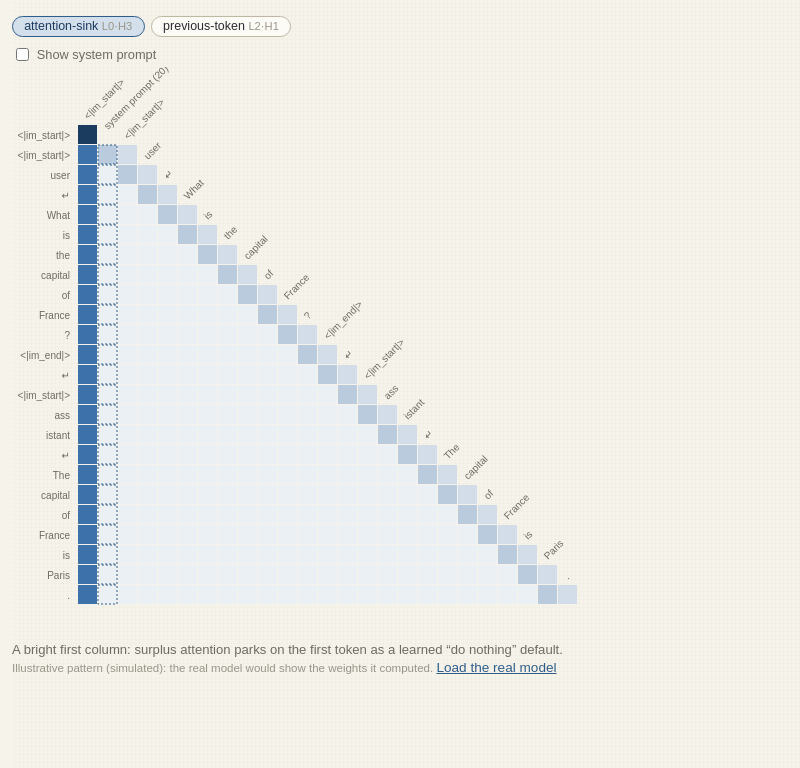
Test: a chat run folds the system prompt into one column; the toggle opens the full matrix
Click the checkbox with test id "attn-show-system". click: {"x": 22, "y": 54}
box: left=16, top=48, right=29, bottom=61
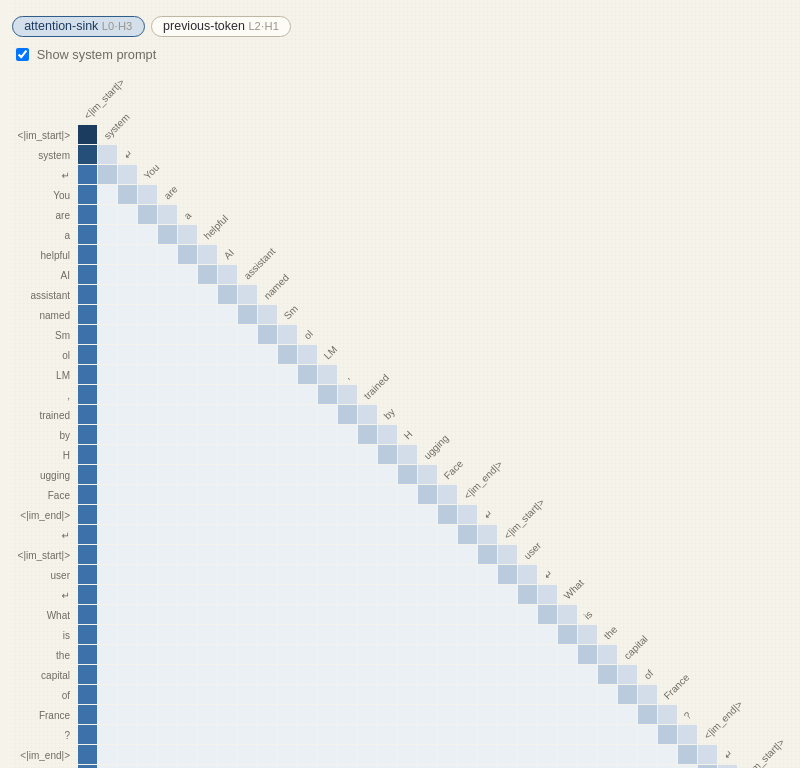
Result: the picture with test id "col-label" no longer shows "system prompt (20)"
